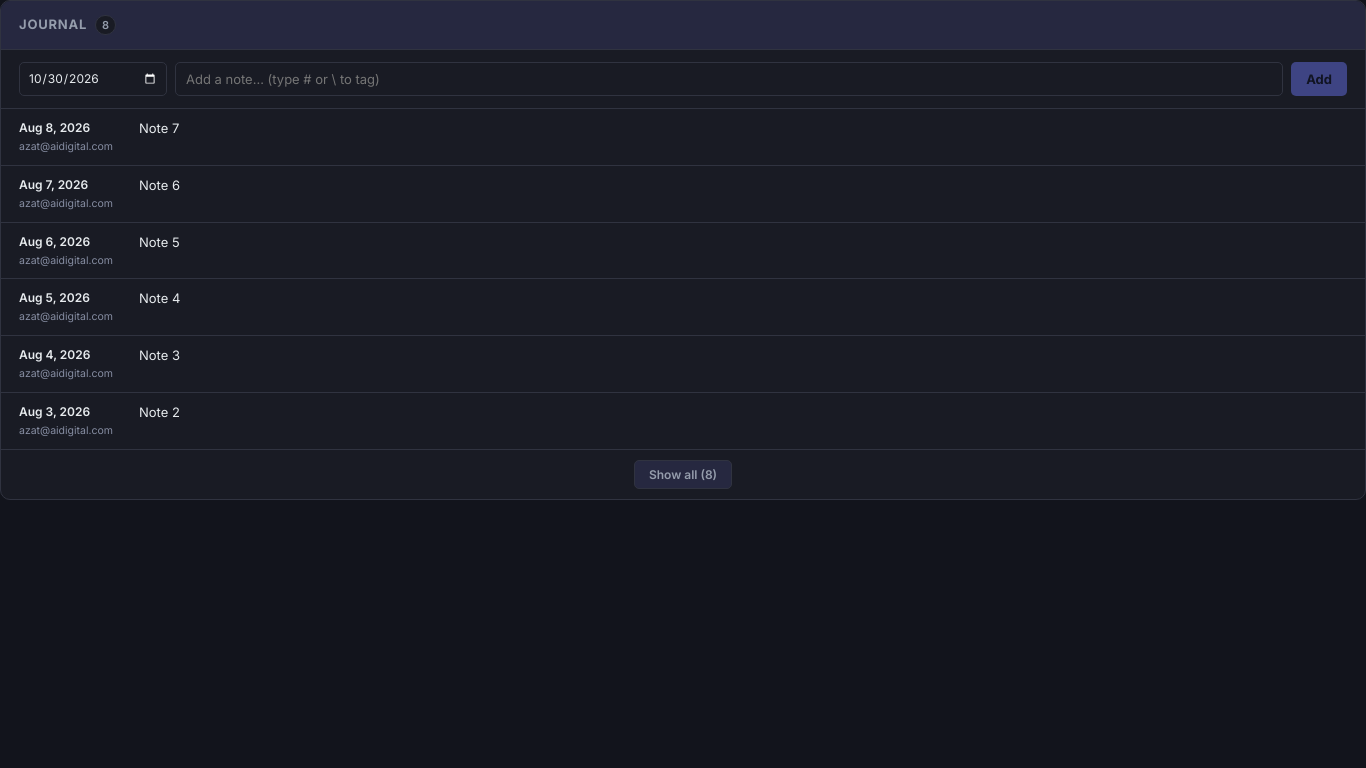
it: JournalPanel › should show the first 6 entries then reveal the rest via Show all / Collapse
Expected: the number of list items is 6, [1,109,1365,166]; [1,166,1365,223]; [1,223,1365,280]; [1,279,1365,336]; [1,336,1365,393]; [19,404,180,437]
Click the button "Show all (8)".
click(683, 474)  # box [634,460,732,489]
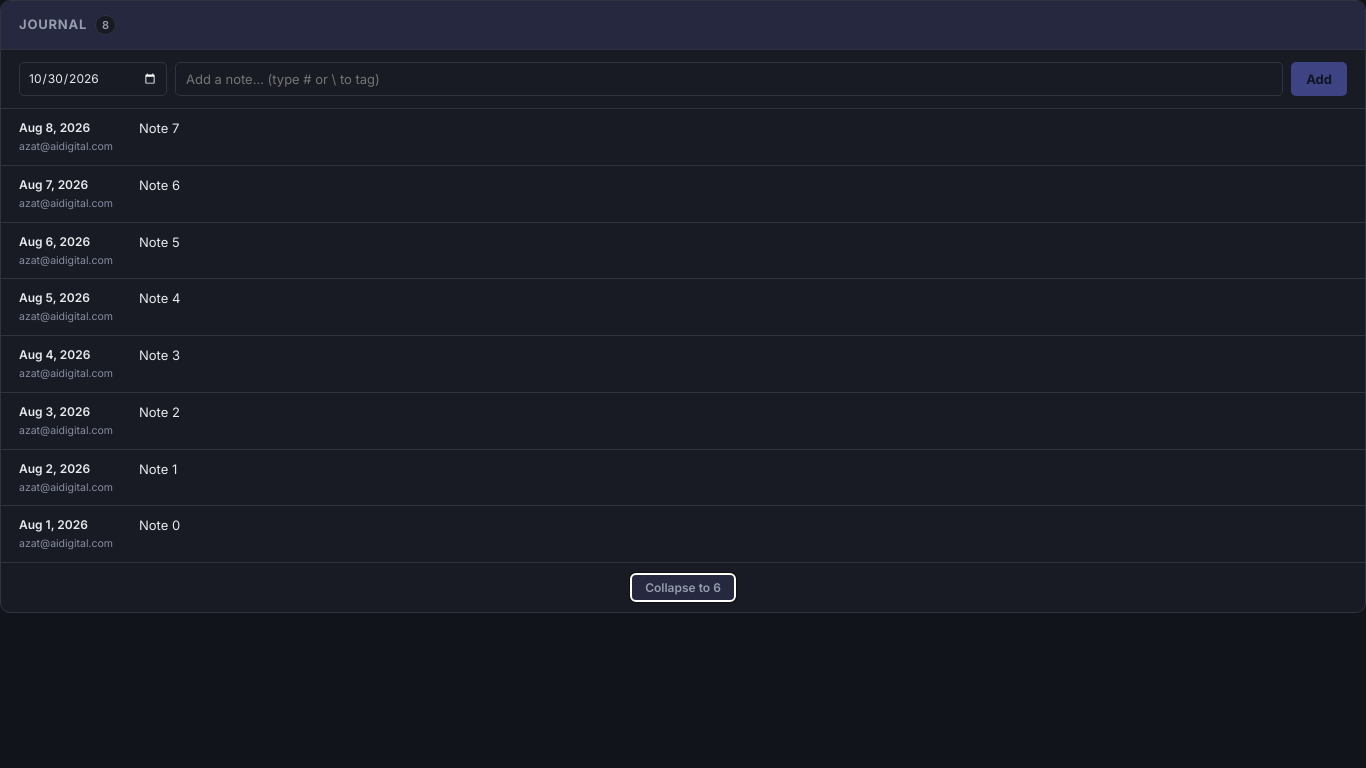
Expected: the number of list items is 8
Click the button "Collapse to 6".
click(683, 588)  # box [630,573,736,602]
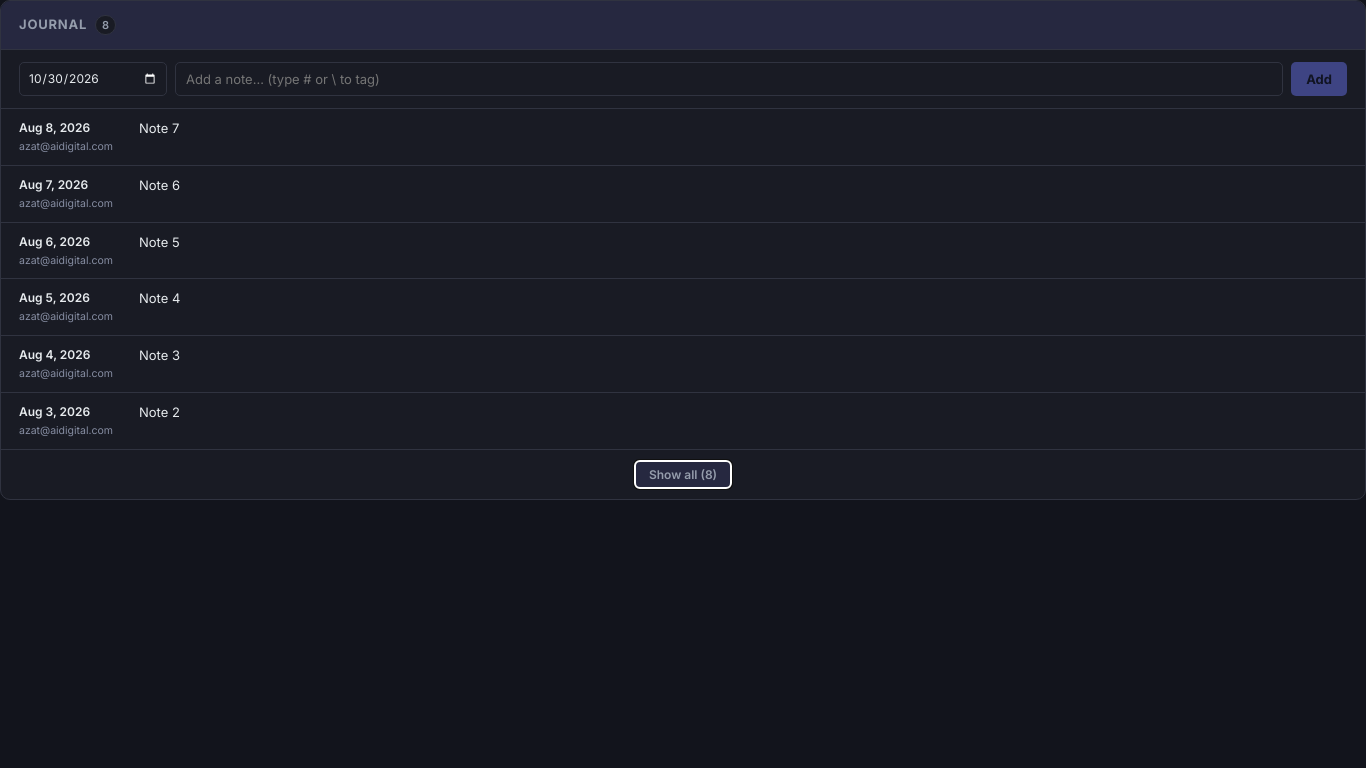
Expected: the number of list items is 6, [1,109,1365,166]; [1,166,1365,223]; [1,223,1365,280]; [1,279,1365,336]; [1,336,1365,393]; [19,404,180,437]
